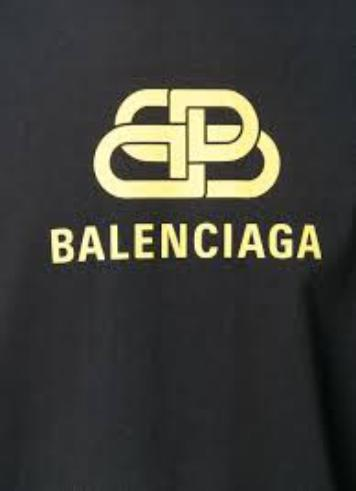BALENCIAGA: (89, 85, 282, 202), (45, 219, 324, 263)
